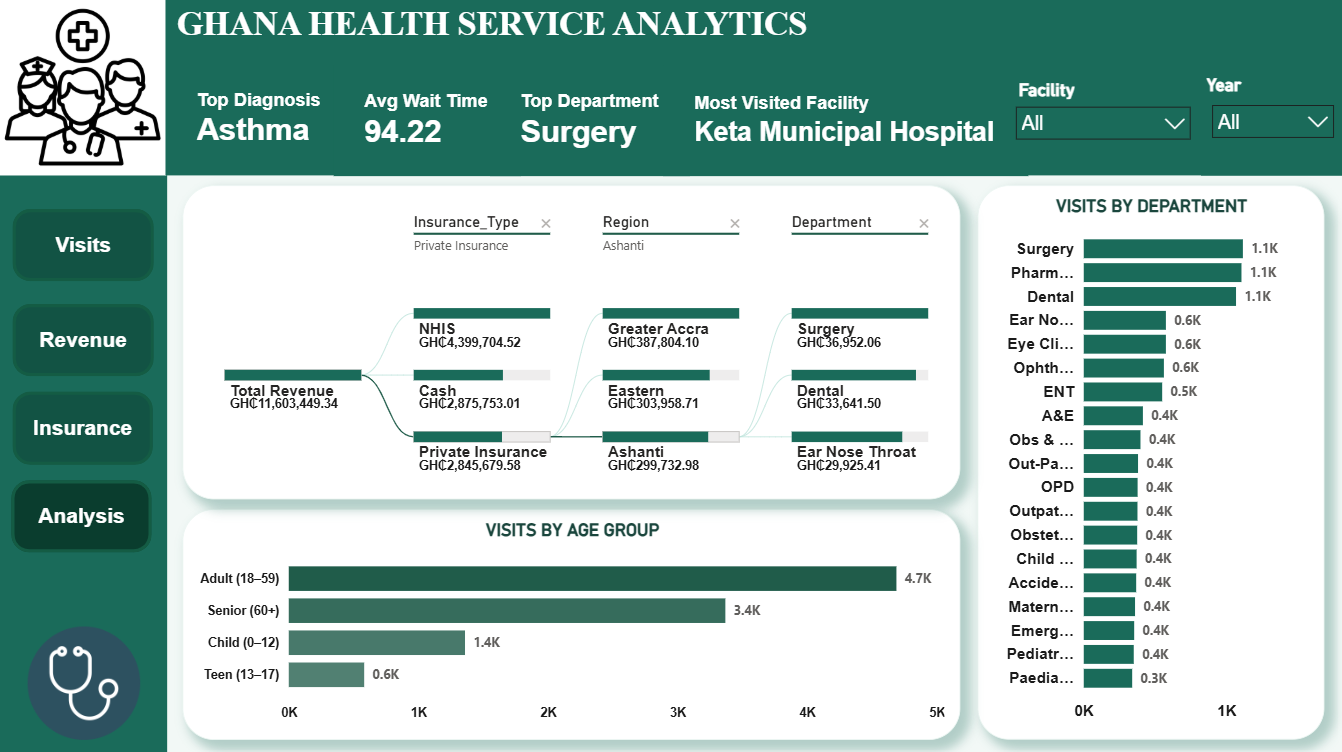

What the dashboard file says about the page in this screenshot:
{"tool":"powerbi","page":{"name":"Analysis","canvas":[1280,720],"ordinal":3},"visuals":[{"type":"shape","box":[0,167.9,159.2,552.3],"z":0},{"type":"shape","box":[0,0,1279.8,168.1],"z":1000},{"type":"textbox","box":[158.3,0,1121.4,115.5],"z":2000},{"type":"cardVisual","fields":{"Data":["Measures (2).Total Visits"]},"box":[558.7,215.9,165.1,101.6],"z":3000},{"type":"actionButton","box":[12,200.4,134.6,68.8],"z":4000},{"type":"actionButton","box":[12.3,374.2,133.7,69.9],"z":5000},{"type":"actionButton","box":[12,290.1,134.6,68.8],"z":6000},{"type":"image","box":[0,0,158,167.9],"z":7000},{"type":"actionButton","box":[11,458.9,133.7,68.7],"z":8000},{"type":"clusteredBarChart","title":"VISITS BY DEPARTMENT","fields":{"Category":["Patient Visits.Department"],"Y":["CountNonNull(Patient Visits.Visit_Date)"]},"box":[931.3,177.9,330.1,527.6],"z":9000},{"type":"clusteredBarChart","title":"VISITS BY AGE GROUP","fields":{"Category":["Patient Visits.Age Group"],"Y":["Measures (2).Total Visits"]},"box":[174.2,485.9,741.1,219.6],"z":10000},{"type":"decompositionTreeVisual","fields":{"Analyze":["Measures (2).Total Revenue"],"ExplainBy":["Patient Visits.Insurance_Type","Regional Summary 2024.Region","Patient Visits.Department"]},"box":[174.2,177.9,741.1,299.4],"z":11000},{"type":"cardVisual","fields":{"Data":["Measures (2).Top Diagnosis"]},"box":[158.1,62.3,179.2,105.8],"z":12000},{"type":"cardVisual","fields":{"Data":["Measures (2).Most Visited Facility"]},"box":[631.9,62.6,347.2,105.5],"z":13000},{"type":"cardVisual","fields":{"Data":["Measures (2).Avg Wait Time (Mins)"]},"box":[317.8,62.6,177.9,105.5],"z":14000},{"type":"cardVisual","fields":{"Data":["Measures (2).TopDepartment"]},"box":[466.3,62.6,190.2,105.5],"z":15000},{"type":"image","box":[9,598.1,140.6,107.7],"z":16000},{"type":"slicer","title":"Year","fields":{"Values":["YearTable.Year"]},"box":[1143.6,71.2,136.2,96.9],"z":17000},{"type":"slicer","fields":{"Values":["Facility Directory.Facility_Name"]},"box":[957.1,71.2,186.5,93.3],"z":18000}]}

Visuals, with their boxes in screenshot pixels (x1, y1, x2, y2), scaled from the page's 1280x720 canvas onto the 1342x752 screenshot:
shape: box=[0, 175, 167, 751]
shape: box=[0, 0, 1341, 176]
textbox: box=[166, 0, 1341, 121]
cardVisual - Measures (2).Total Visits: box=[586, 225, 759, 332]
actionButton: box=[13, 209, 154, 281]
actionButton: box=[13, 391, 153, 464]
actionButton: box=[13, 303, 154, 375]
image: box=[0, 0, 166, 175]
actionButton: box=[12, 479, 152, 551]
"VISITS BY DEPARTMENT" clusteredBarChart: box=[976, 186, 1322, 737]
"VISITS BY AGE GROUP" clusteredBarChart: box=[183, 507, 960, 737]
decompositionTreeVisual - Measures (2).Total Revenue x Patient Visits.Insurance_Type: box=[183, 186, 960, 499]
cardVisual - Measures (2).Top Diagnosis: box=[166, 65, 354, 176]
cardVisual - Measures (2).Most Visited Facility: box=[663, 65, 1027, 176]
cardVisual - Measures (2).Avg Wait Time (Mins): box=[333, 65, 520, 176]
cardVisual - Measures (2).TopDepartment: box=[489, 65, 688, 176]
image: box=[9, 625, 157, 737]
"Year" slicer: box=[1199, 74, 1341, 176]
slicer - Facility Directory.Facility_Name: box=[1003, 74, 1199, 172]
